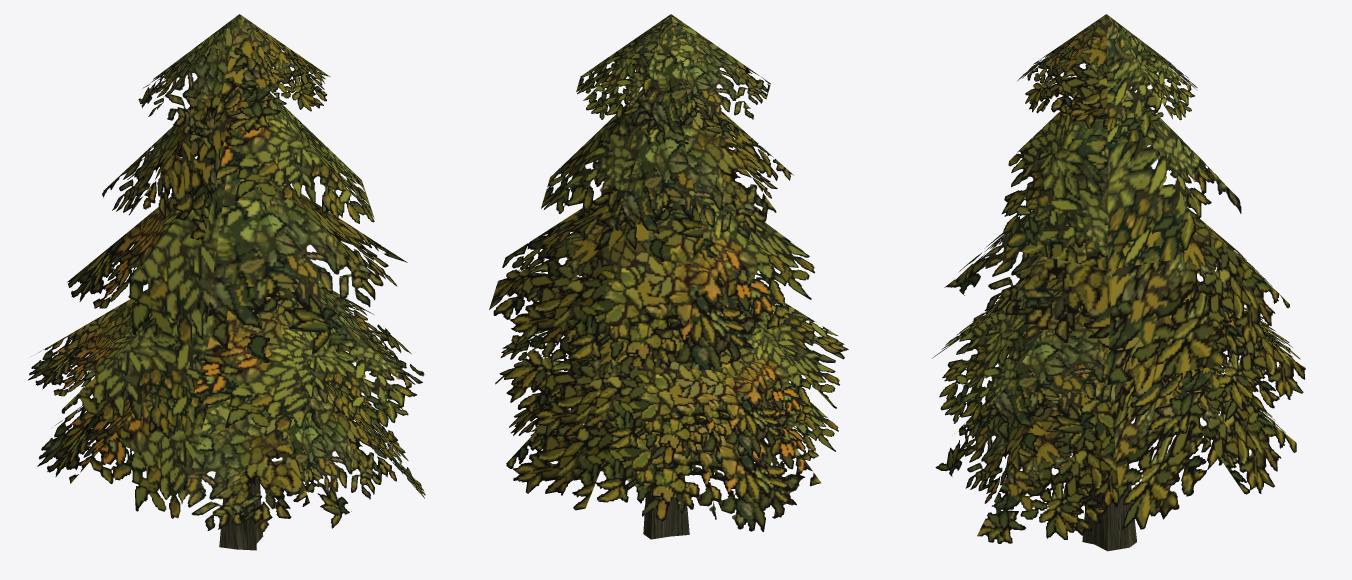
Rendered from Pine tree finished and cleaned.fbx.
3 views of the same model, side by side, from view 1: azimuth 30°, elevation 25°; view 2: azimuth 150°, elevation 25°; view 3: azimuth 270°, elevation 25° (orthographic). The views are drawn at different scales.
Parts seen in each view (by area): view 1: Trunk.001, Trunk; view 2: Trunk.001, Trunk; view 3: Trunk.001, Trunk.
Boxes of the visible parts, x1=… form: Trunk.001: x1=28, y1=14, x2=425, y2=532; Trunk: x1=219, y1=151, x2=263, y2=550; Trunk.001: x1=489, y1=14, x2=848, y2=531; Trunk: x1=643, y1=465, x2=689, y2=539; Trunk.001: x1=932, y1=14, x2=1305, y2=543; Trunk: x1=1082, y1=74, x2=1136, y2=551.
Bounding box in the file's own units: 1768 × 2372 × 1779.
